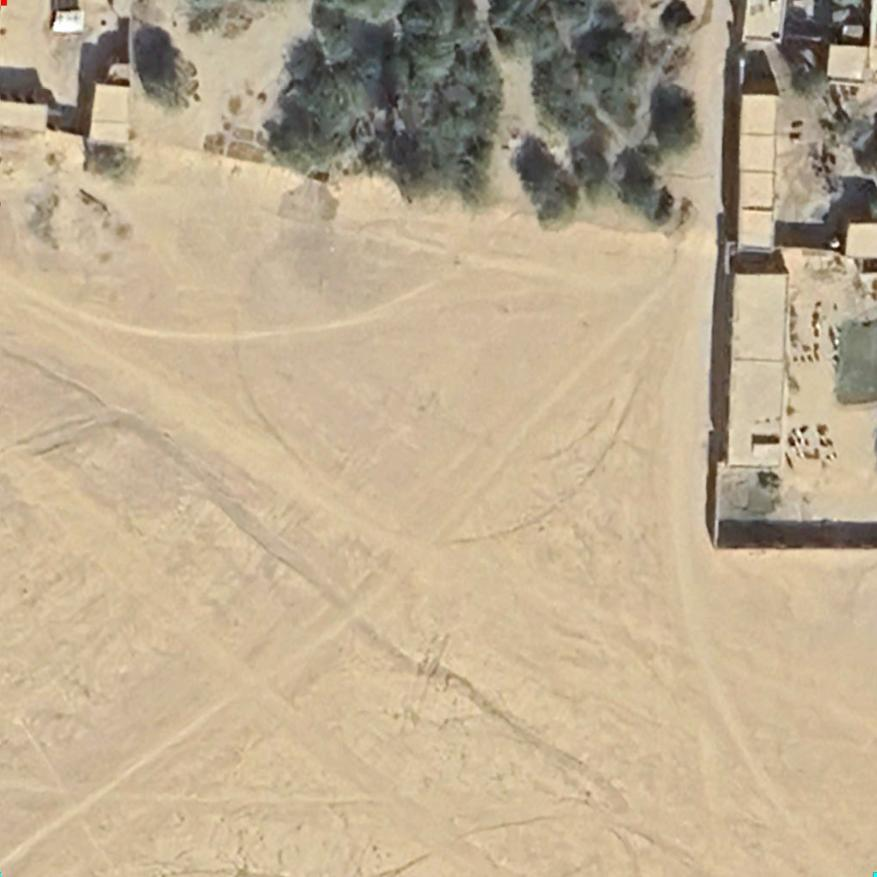Solarpanel: (45, 7, 88, 39)
